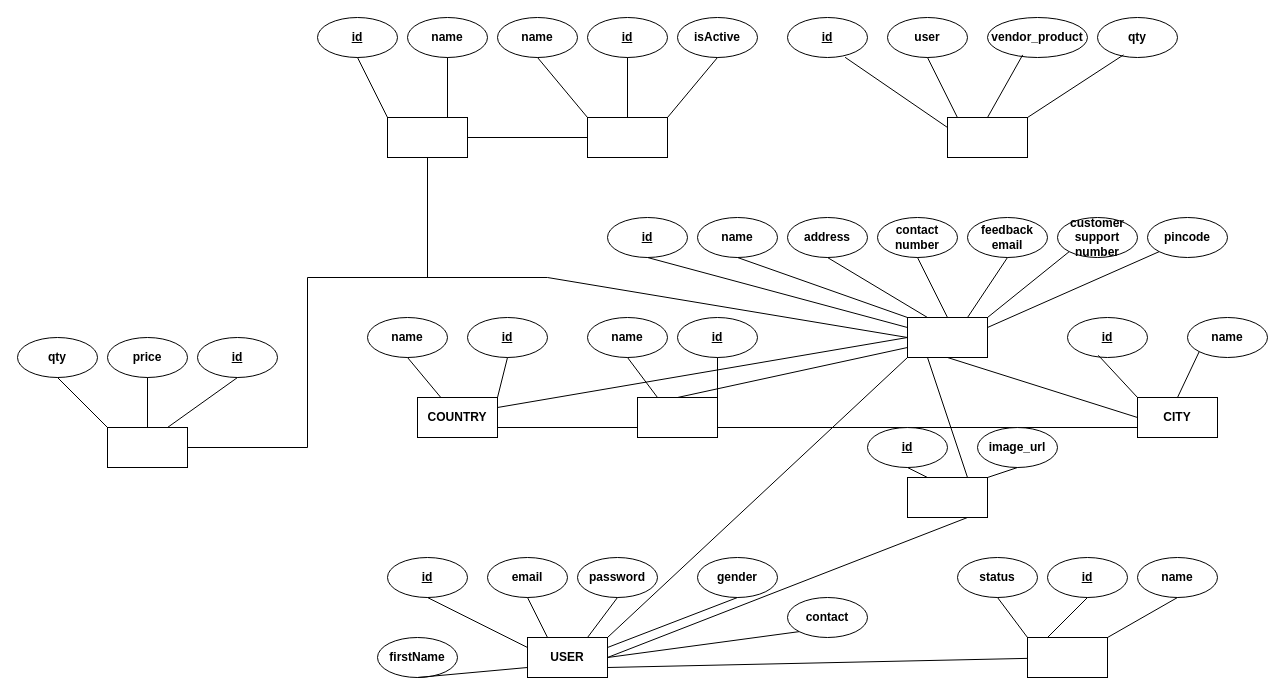
Some shapes in this 1285 by 696 pixel diagram are drawn without their labels. The shapes that lost their labels are listed below. From the top down, each one's centre as x and y in pixels, then its label:
At point 427,137: "PRODUCT".
At point 627,137: "CATEGORY".
At point 987,137: "CART".
At point 947,337: "VENDOR DETAILS".
At point 677,417: "STATE".
At point 147,447: "VENDOR PRODUCT".
At point 947,497: "VENDOR PRODUCT IMAGE".
At point 1067,657: "ROLE".
